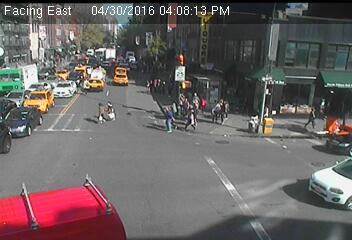neg: (244, 112, 262, 136), (259, 74, 276, 97), (69, 31, 77, 41)
pos: (183, 108, 201, 132), (160, 106, 177, 129), (304, 107, 321, 129), (214, 104, 229, 123), (93, 102, 107, 122), (220, 100, 234, 119), (102, 100, 116, 118), (191, 90, 202, 105), (264, 105, 272, 115)
